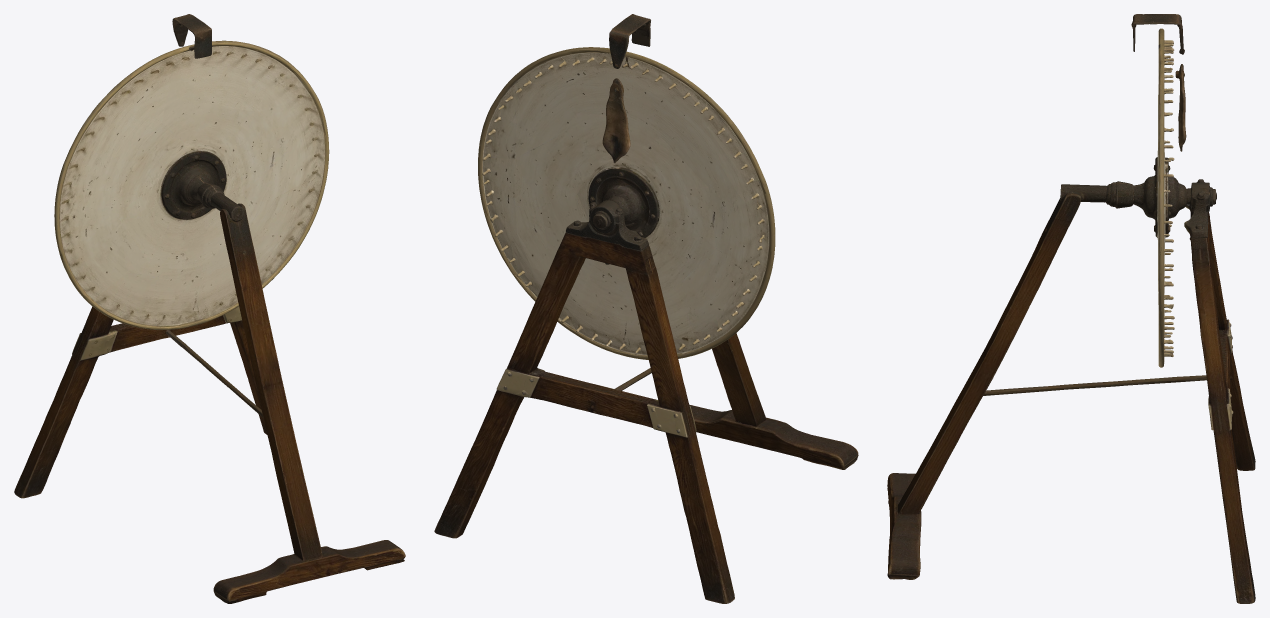
File: fortune_wheel.glb
The picture shows the model from 3 angles, left to right: view 1: azimuth 30°, elevation 25°; view 2: azimuth 150°, elevation 25°; view 3: azimuth 270°, elevation 25°; orthographic projection. The views are drawn at different scales.
Parts seen in each view (by area): view 1: Mesh_0; view 2: Mesh_0; view 3: Mesh_0.
Boxes of the visible parts, x1,y1,x2,y2 form: Mesh_0: (14, 14, 405, 603); Mesh_0: (434, 14, 858, 603); Mesh_0: (887, 14, 1255, 603).
Bounding box in the file's own units: 1.15 × 1.9 × 1.23.
Materials: 1 (1 with a texture image).
